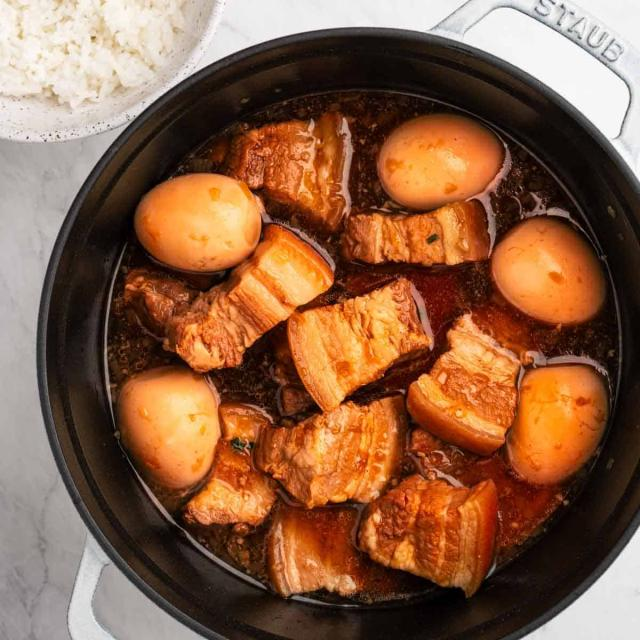Egg: (505, 364, 609, 485), (119, 367, 220, 489), (491, 217, 605, 325), (134, 174, 260, 269), (377, 115, 503, 209)
Pork: (164, 113, 490, 411), (184, 395, 498, 596), (406, 315, 520, 454)
